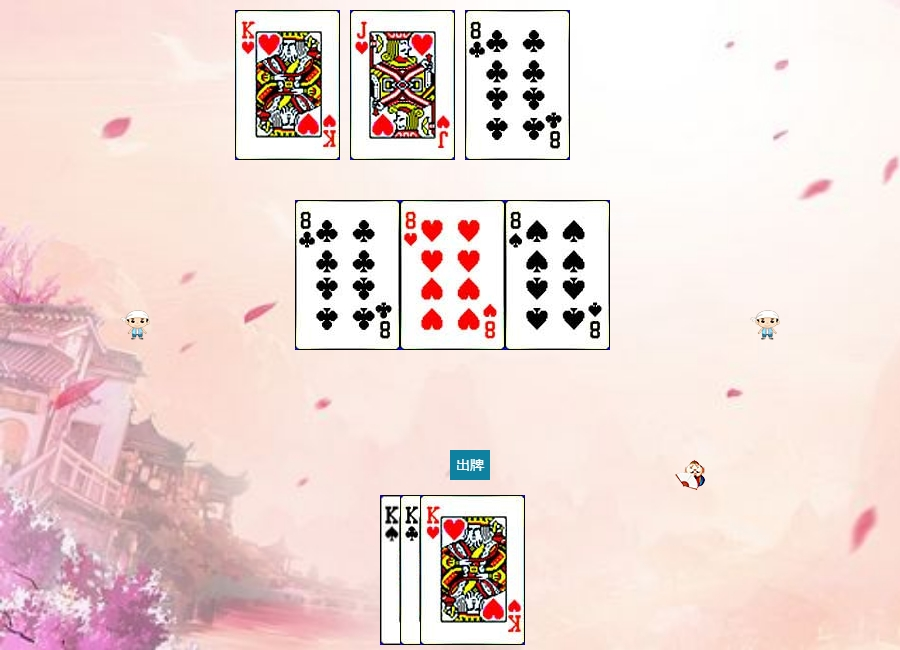11~3: (350, 10, 455, 160)
13~2: (400, 495, 505, 645)
13~3: (235, 10, 340, 160), (420, 495, 525, 645)
13~4: (380, 495, 485, 645)
8~2: (465, 10, 570, 160), (295, 200, 400, 350)
8~3: (400, 200, 505, 350)
8~4: (505, 200, 610, 350)
